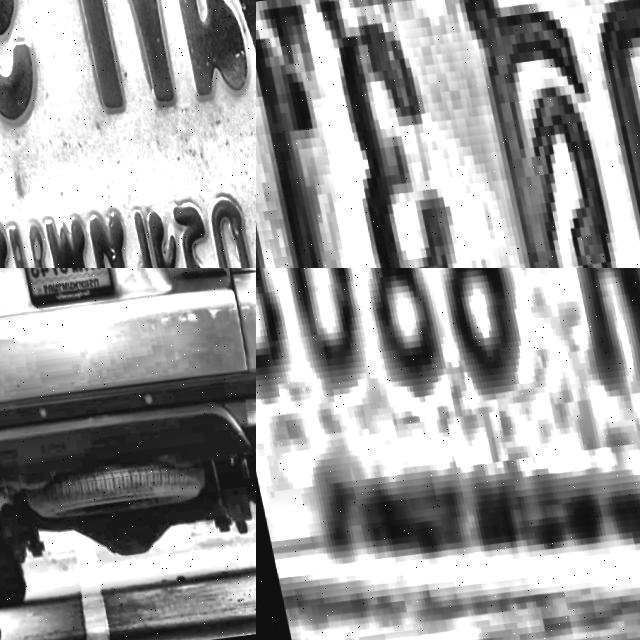license-plate: (256, 268, 640, 640), (256, 0, 640, 268), (0, 0, 256, 268), (9, 268, 113, 312)
